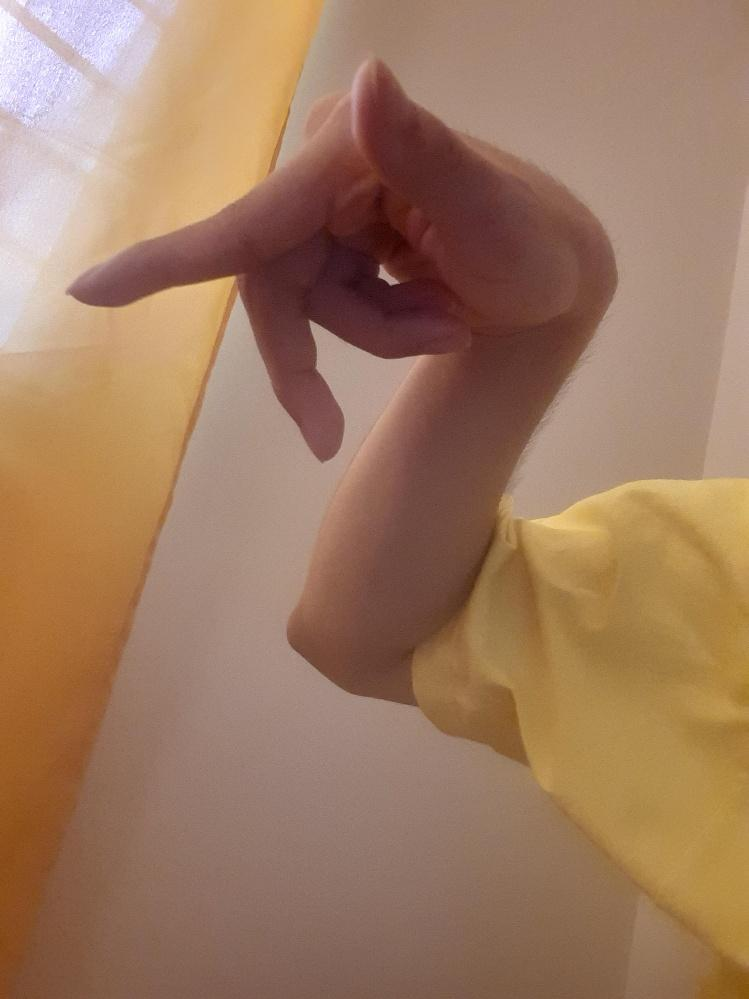p: (67, 58, 615, 453)
